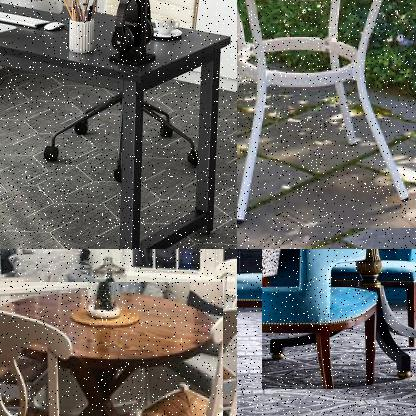table: (0, 0, 236, 248), (237, 0, 415, 230), (0, 282, 225, 415), (262, 249, 415, 391)
